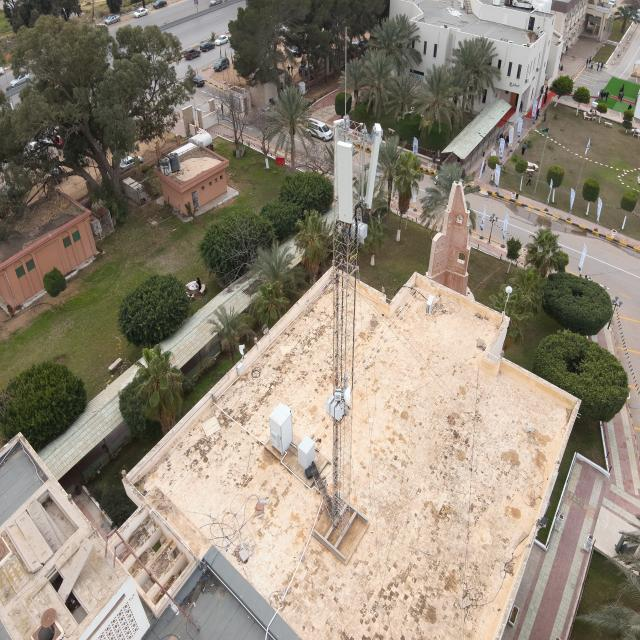antenna: (336, 139, 356, 224), (365, 123, 382, 209), (333, 118, 349, 200)
lighnig-rad: (344, 26, 348, 118)
microware-dish: (334, 384, 352, 408)
power-box: (325, 393, 346, 422)
radio-unit: (344, 217, 368, 241)
